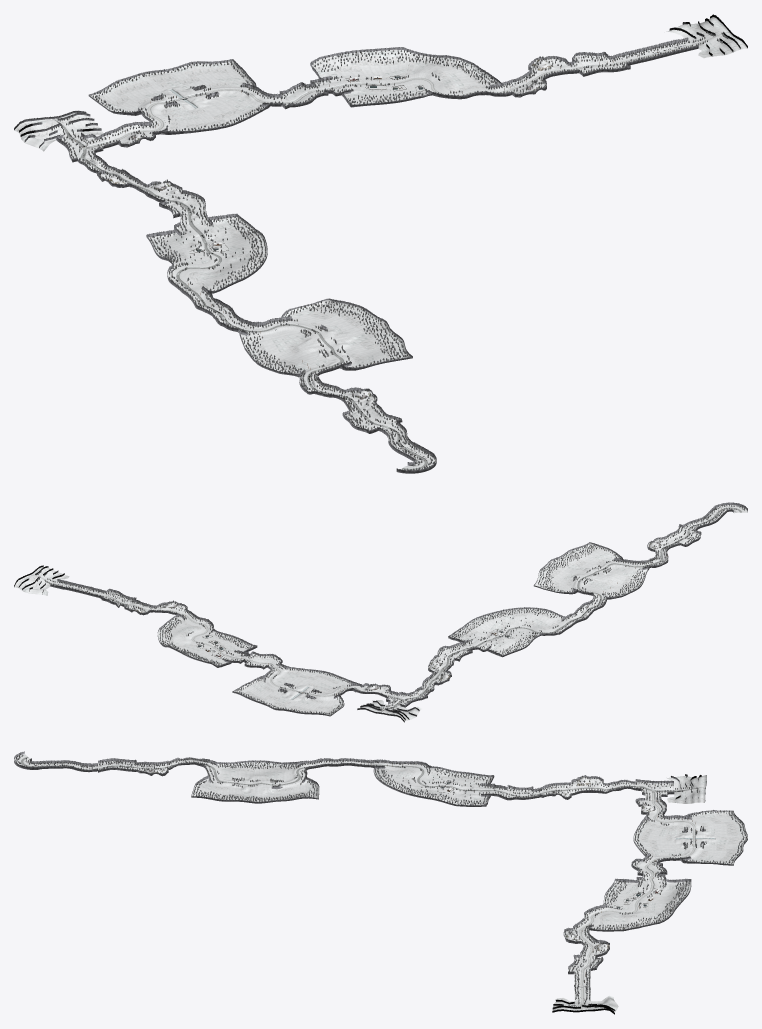
File: sweden_stage4_visual.glb
The picture shows the model from 3 angles, top to bottom: view 1: azimuth 30°, elevation 25°; view 2: azimuth 150°, elevation 25°; view 3: azimuth 270°, elevation 25°; orthographic projection. The views are drawn at different scales.
Visible parts, largest first — view 1: Track_Road_And_Terrain, Foliage_And_Vegetation; view 2: Track_Road_And_Terrain, Foliage_And_Vegetation; view 3: Track_Road_And_Terrain, Foliage_And_Vegetation.
Boxes of the visible parts, left/top/right/bottom form: Track_Road_And_Terrain: left=14, top=17, right=747, bottom=473; Foliage_And_Vegetation: left=14, top=14, right=747, bottom=470; Track_Road_And_Terrain: left=14, top=502, right=747, bottom=721; Foliage_And_Vegetation: left=14, top=504, right=746, bottom=722; Track_Road_And_Terrain: left=14, top=751, right=747, bottom=1012; Foliage_And_Vegetation: left=15, top=753, right=746, bottom=1014.
Size of the model in its own units: 2318 by 53.26 by 2751.
Materials: 59 (59 with a texture image).
